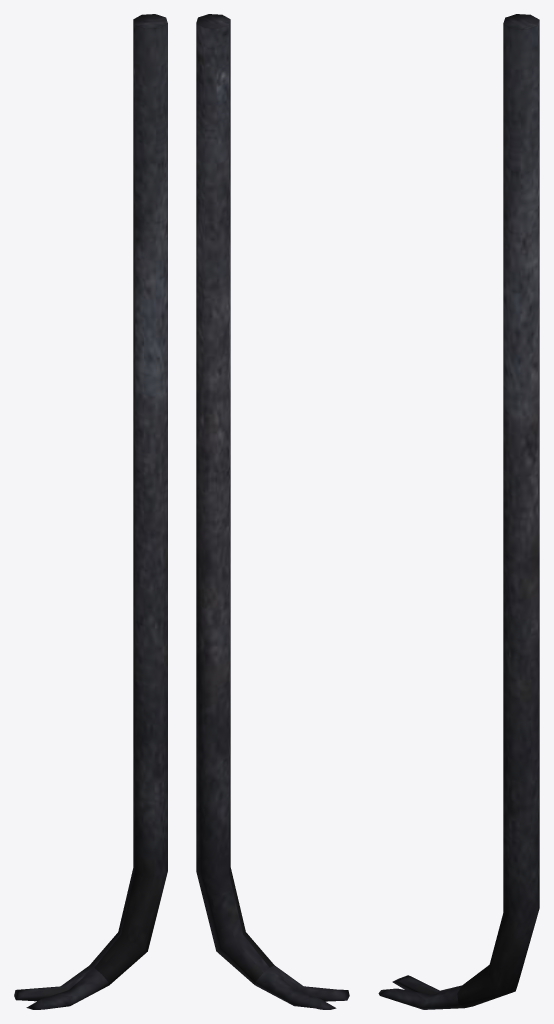
Rendered from Clamp1.fbx.
The picture shows the model from 3 angles, left to right: view 1: azimuth 30°, elevation 25°; view 2: azimuth 150°, elevation 25°; view 3: azimuth 330°, elevation 25°; orthographic projection. The views are drawn at different scales.
Parts seen in each view (by area): view 1: Cylinder.017; view 2: Cylinder.017; view 3: Cylinder.017.
Part boxes in pixels (x1,y1,x2,y2): Cylinder.017: (14,14,167,1009); Cylinder.017: (196,14,349,1009); Cylinder.017: (378,14,539,1009).
Bounding box in the file's own units: 14.53 × 4.73 × 92.33.
Materials: 1 (1 with a texture image).
